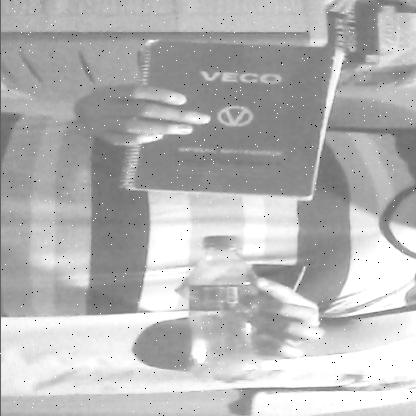Plastic Bottle: (172, 231, 269, 387)
